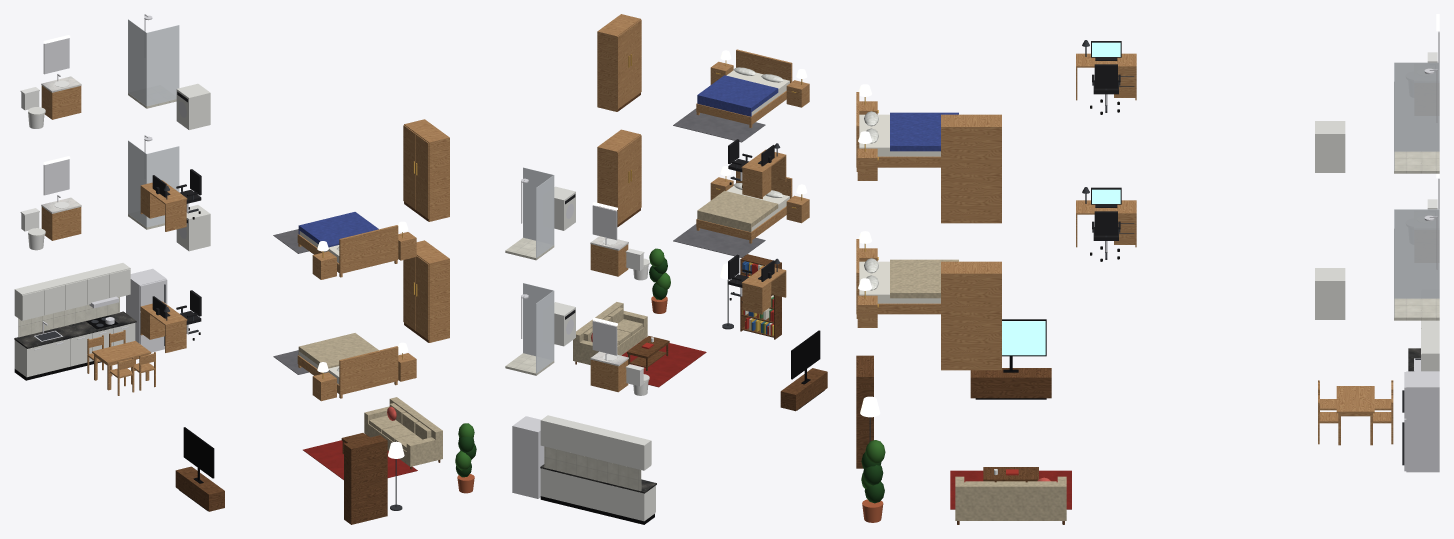
File: i_sf_painted_lady.gltf
The picture shows the model from 3 angles, left to right: view 1: azimuth 30°, elevation 25°; view 2: azimuth 150°, elevation 25°; view 3: azimuth 270°, elevation 25°; orthographic projection. The views are drawn at different scales.
Visible parts, largest first — view 1: I_sf_painted_lady; view 2: I_sf_painted_lady; view 3: I_sf_painted_lady.
Boxes of the visible parts, x1,y1,x2,y2 form: I_sf_painted_lady: (14,14,476,524); I_sf_painted_lady: (505,14,827,524); I_sf_painted_lady: (856,14,1439,524).
Bounding box in the file's own units: 6.36 × 8.7 × 11.52.
Materials: 33 (12 with a texture image).
